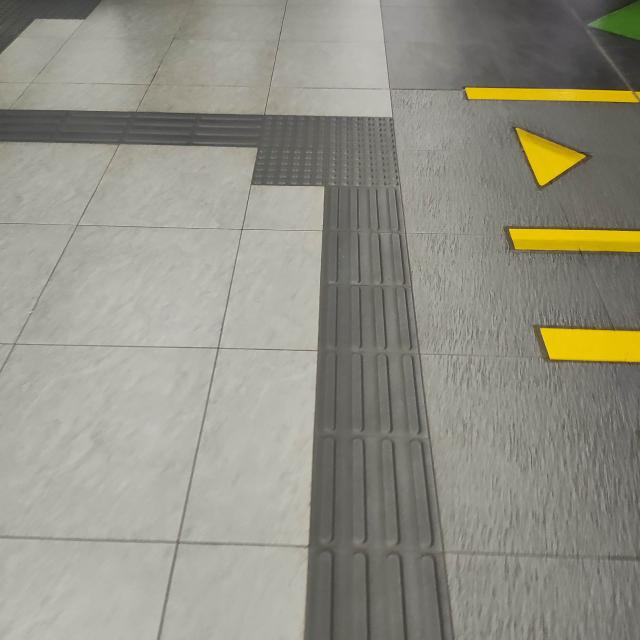kiri: (114, 80, 465, 232)
